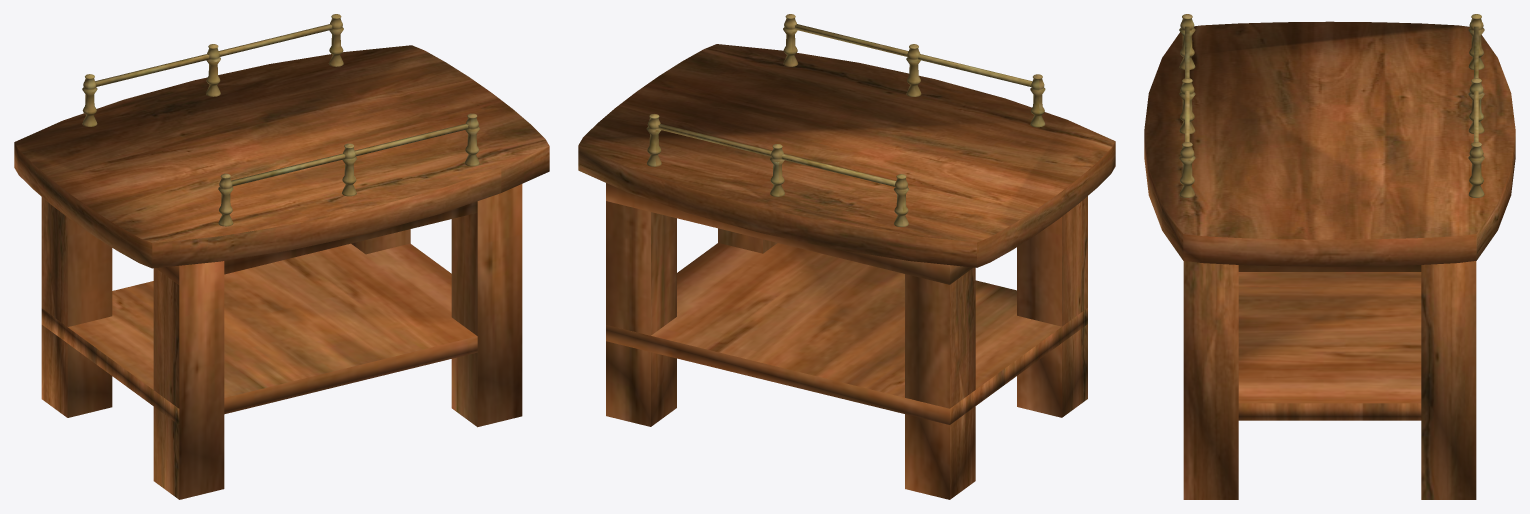
Rendered from side_table.obj.
3 renders of one model, left to right at view 1: azimuth 30°, elevation 25°; view 2: azimuth 150°, elevation 25°; view 3: azimuth 270°, elevation 25°, orthographic. The views are drawn at different scales.
Parts seen in each view (by area): view 1: side_table.obj; view 2: side_table.obj; view 3: side_table.obj.
Boxes of the visible parts, x1,y1,x2,y2 form: side_table.obj: (14,14,549,499); side_table.obj: (578,14,1115,499); side_table.obj: (1144,14,1515,499).
Bounding box in the file's own units: 9.38 × 6.67 × 6.76.
